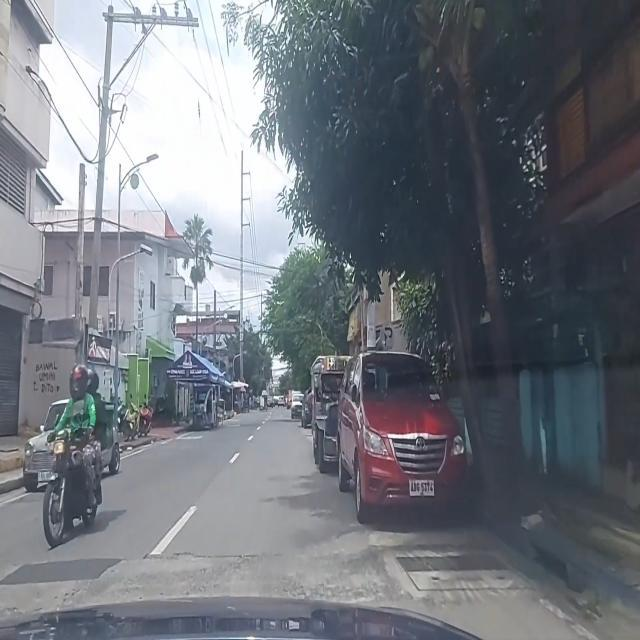car: (336, 350, 470, 526), (23, 394, 120, 498), (124, 392, 142, 440), (139, 393, 154, 438), (292, 394, 304, 418)
jeepney: (310, 353, 352, 475)
motorcycle: (40, 363, 114, 549), (124, 392, 142, 440), (139, 393, 154, 438)
tricycle: (192, 386, 216, 430)
